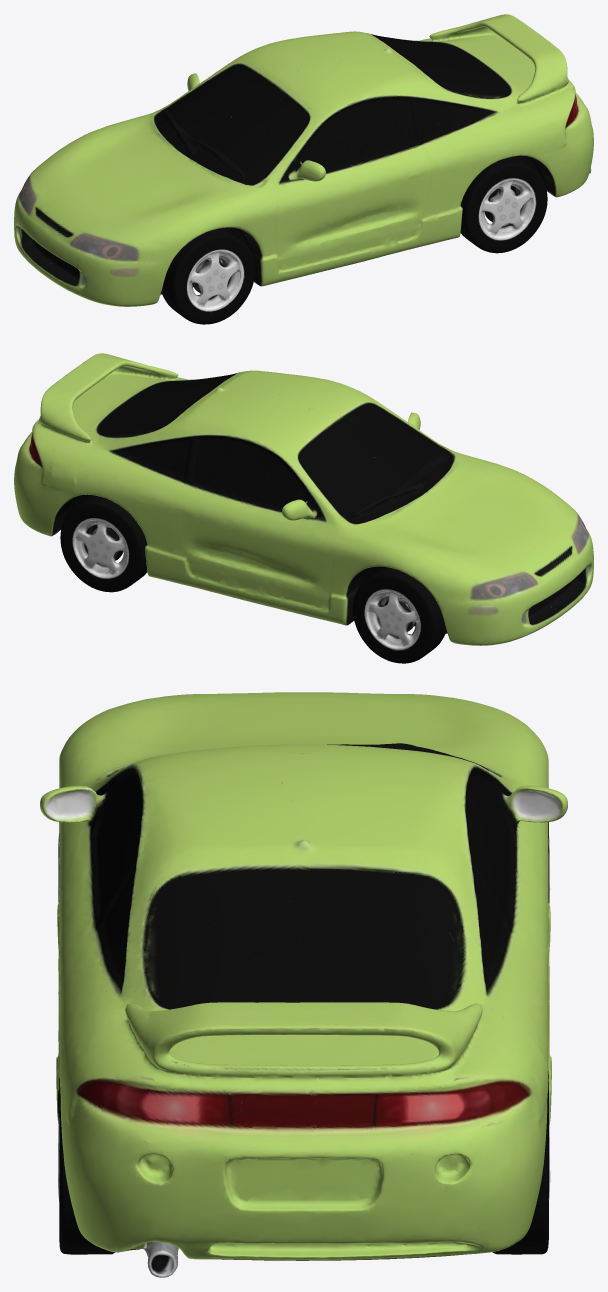
The model's file is cars_diamond_lunar.glb.
The picture shows the model from 3 angles, top to bottom: view 1: azimuth 30°, elevation 25°; view 2: azimuth 150°, elevation 25°; view 3: azimuth 270°, elevation 25°; orthographic projection. The views are drawn at different scales.
Parts seen in each view (by area): view 1: Mesh_0.001; view 2: Mesh_0.001; view 3: Mesh_0.001.
Part boxes in pixels (x1,y1,x2,y2): Mesh_0.001: (14,14,593,324); Mesh_0.001: (14,353,593,663); Mesh_0.001: (40,692,567,1277).
Size of the model in its own units: 1.9 by 0.619 by 0.8398.
Materials: 1 (1 with a texture image).
